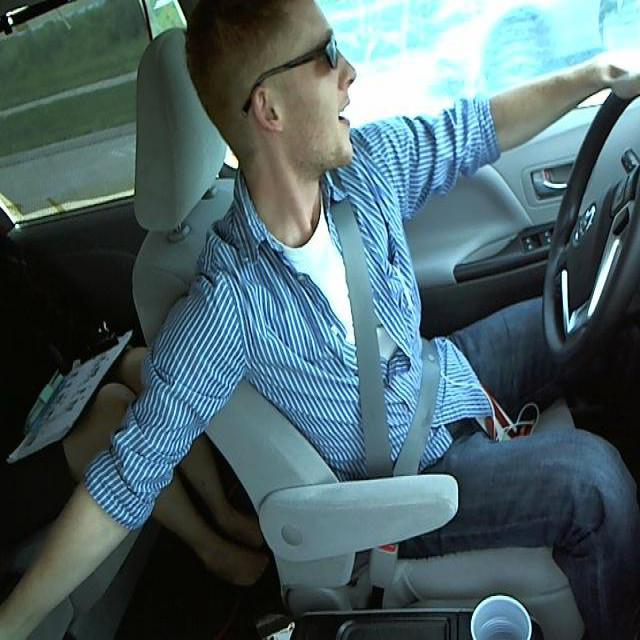seatbelt: (337, 216, 447, 463)
